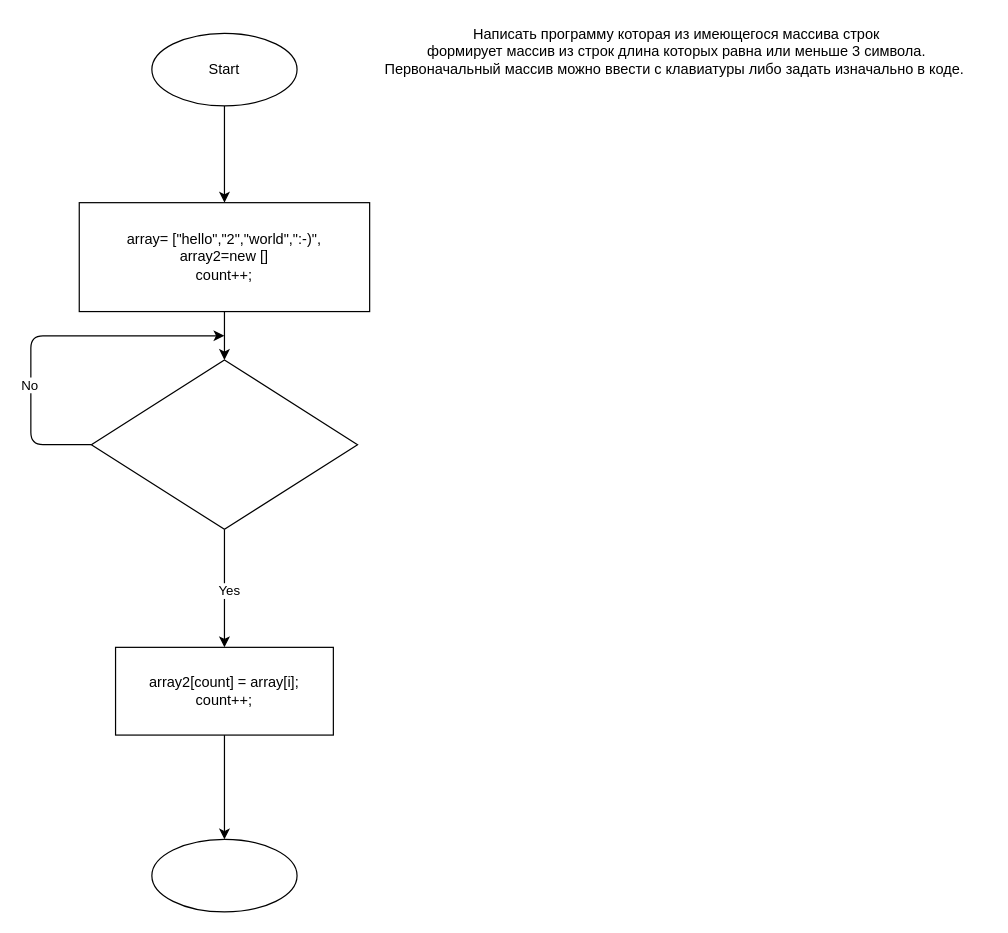
Image size: 1008x933. Some labels were removed from this diagram. Here are the shapes that lost their labels. From the top down, the box of each, then its label:
(90, 359, 358, 529): for(i=0;i<array.Lenght;i++) if (array[i]<=3)
(151, 838, 297, 912): End
